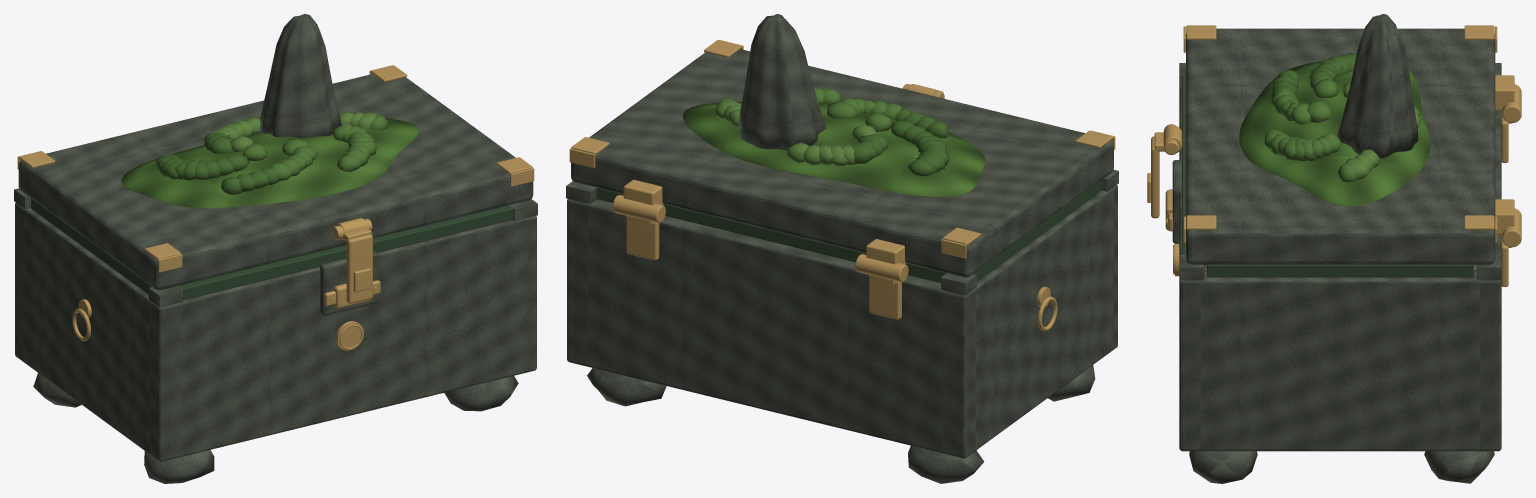
Rendered from sao-tome-and-principe.glb.
The picture shows the model from 3 angles, left to right: view 1: azimuth 30°, elevation 25°; view 2: azimuth 150°, elevation 25°; view 3: azimuth 270°, elevation 25°; orthographic projection. The views are drawn at different scales.
Visible parts, largest first — view 1: Phonolite / body long, Lid / polished slab, Phonolite / body side, Terrain / rainforest bed, Terrain / Pico Cao Grande inspired needle, Forest / seam long, Phonolite foot, Phonolite foot.002, Phonolite / body side.001, Latch / lifting hasp, Phonolite / clasp seat, Forest / seam side (+4 smaller); view 2: Phonolite / body long.001, Lid / polished slab, Phonolite / body side, Terrain / rainforest bed, Terrain / Pico Cao Grande inspired needle, Phonolite / body side.001, Forest / seam long.001, Phonolite foot.001, Phonolite foot.003, Forest / seam side, Hinge / fixed mount.001, Hinge / fixed mount (+7 smaller); view 3: Phonolite / body side.001, Lid / polished slab, Terrain / rainforest bed, Terrain / Pico Cao Grande inspired needle, Phonolite / body long.001, Phonolite / body long, Forest / seam side.001, Phonolite foot.002, Phonolite foot.003, Phonolite / clasp seat, Forest / seam long, Latch / lifting hasp (+11 smaller).
Part boxes in pixels (x1,y1,x2,y2): Phonolite / body long: (150, 218, 535, 461); Lid / polished slab: (18, 74, 533, 290); Phonolite / body side: (15, 204, 180, 461); Terrain / rainforest bed: (121, 118, 418, 208); Terrain / Pico Cao Grande inspired needle: (260, 14, 341, 138); Forest / seam long: (177, 205, 513, 299); Phonolite foot: (144, 450, 214, 483); Phonolite foot.002: (444, 376, 518, 411); Phonolite / body side.001: (522, 216, 536, 372); Latch / lifting hasp: (346, 234, 372, 303); Phonolite / clasp seat: (320, 251, 379, 315); Forest / seam side: (31, 198, 151, 294); Phonolite / body long.001: (567, 199, 975, 458); Lid / polished slab: (571, 49, 1113, 277); Phonolite / body side: (943, 186, 1116, 458); Terrain / rainforest bed: (683, 98, 985, 196); Terrain / Pico Cao Grande inspired needle: (738, 14, 826, 150); Phonolite / body side.001: (567, 199, 588, 366); Forest / seam long.001: (596, 188, 946, 282); Phonolite foot.001: (908, 445, 984, 483); Phonolite foot.003: (587, 368, 666, 406); Forest / seam side: (973, 180, 1100, 281); Hinge / fixed mount.001: (626, 215, 659, 260); Hinge / fixed mount: (869, 275, 901, 319); Phonolite / body side.001: (1179, 272, 1501, 451); Lid / polished slab: (1186, 28, 1495, 264); Terrain / rainforest bed: (1239, 61, 1430, 206); Terrain / Pico Cao Grande inspired needle: (1337, 14, 1418, 158); Phonolite / body long.001: (1480, 110, 1501, 451); Phonolite / body long: (1179, 88, 1200, 451); Forest / seam side.001: (1207, 264, 1473, 277); Phonolite foot.002: (1189, 451, 1257, 483); Phonolite foot.003: (1424, 451, 1494, 483); Phonolite / clasp seat: (1172, 160, 1181, 243); Forest / seam long: (1182, 75, 1185, 254); Latch / lifting hasp: (1151, 136, 1159, 218).
Size of the model in its own units: 3.79 by 3.46 by 2.88.
7 materials, 2 textured.
